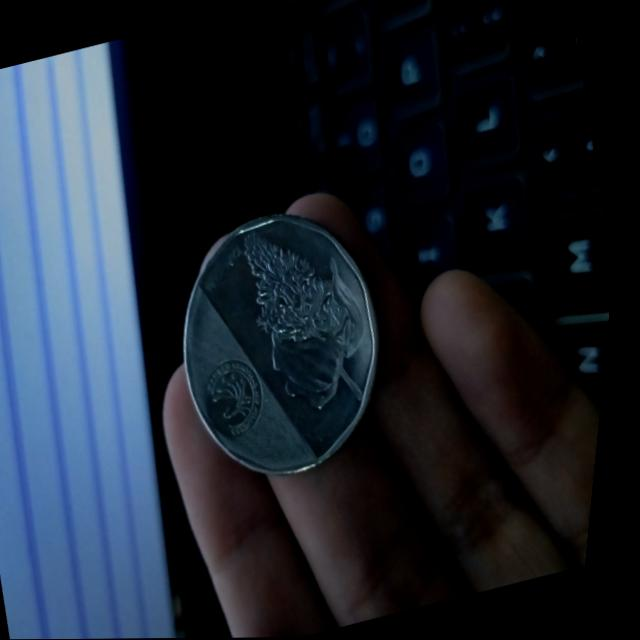10_New_Back: (165, 208, 393, 463)
